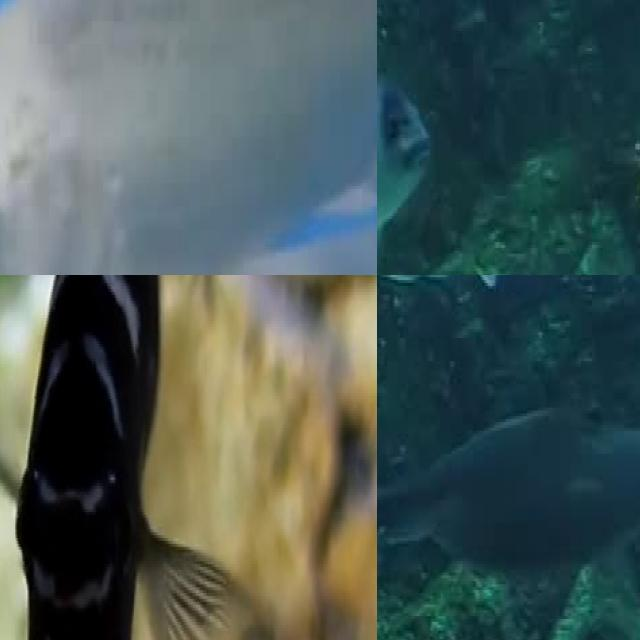fish: (0, 0, 377, 275), (377, 275, 521, 300)
